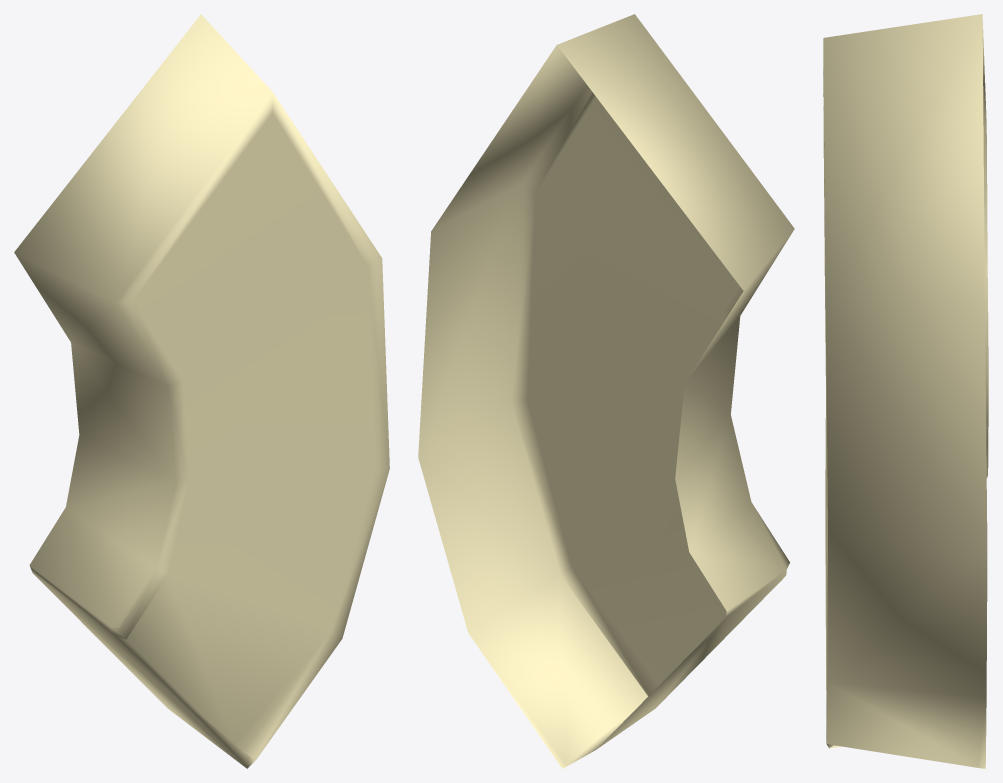
Rendered from ui_radialMenu_inner_4_right.glb.
3 renders of one model, left to right at view 1: azimuth 30°, elevation 25°; view 2: azimuth 150°, elevation 25°; view 3: azimuth 270°, elevation 25°, orthographic. The views are drawn at different scales.
Visible parts, largest first — view 1: centerRight; view 2: centerRight; view 3: centerRight.
Boxes of the visible parts, x1,y1,x2,y2 form: centerRight: (14,14,389,768); centerRight: (418,14,794,768); centerRight: (823,14,988,768).
Size of the model in its own units: 0.296 by 0.6274 by 0.1241.
